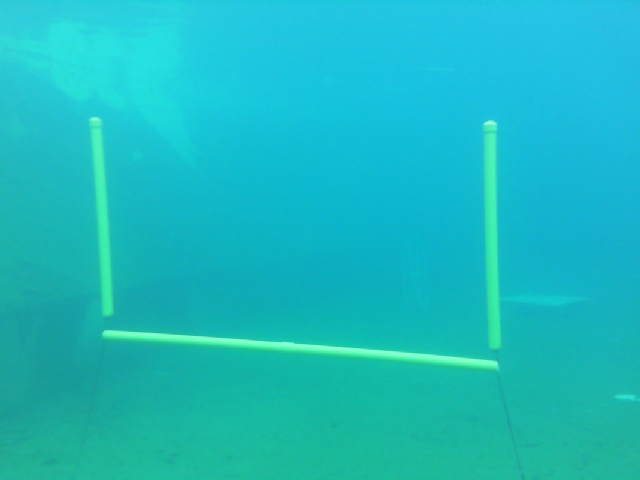channel: (86, 108, 509, 373)
